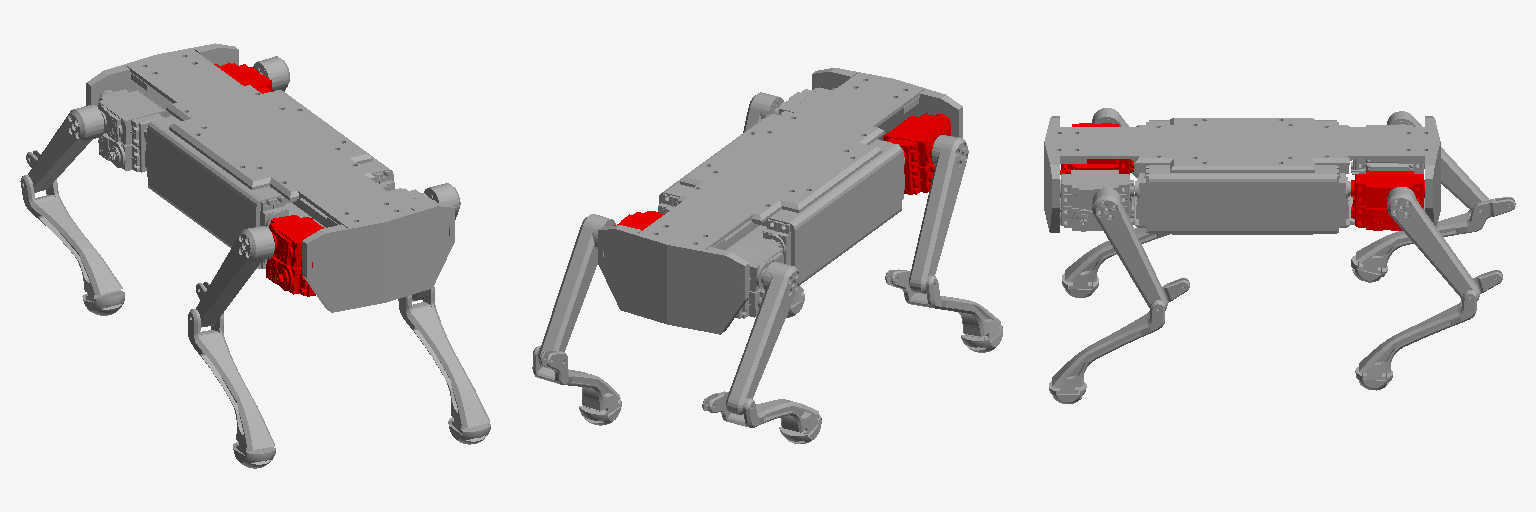
URDF robot description (URDF):
<?xml version="1.0" encoding="utf-8"?>
<!-- This URDF was automatically created by SolidWorks to URDF Exporter! Originally created by Stephen Brawner (brawner@gmail.com) 
     Commit Version: 1.6.0-4-g7f85cfe  Build Version: 1.6.7995.38578
     For more information, please see http://wiki.ros.org/sw_urdf_exporter -->
<robot
  name="URDF">
  <link
    name="base_link">
    <inertial>
      <origin
        xyz="-9.00283980698191E-09 5.37260734512213E-09 0.0004696376772092"
        rpy="0 0 0" />
      <mass
        value="0.326547449294338" />
      <inertia
        ixx="0.000391289335637491"
        ixy="2.91015127306445E-12"
        ixz="-4.83180864568021E-14"
        iyy="0.000178962951205194"
        iyz="-2.65253578582664E-11"
        izz="0.000422717056040505" />
    </inertial>
    <visual>
      <origin
        xyz="0 0 0"
        rpy="0 0 0" />
      <geometry>
        <mesh
          filename="package://URDF/meshes/base_link.STL" />
      </geometry>
      <material
        name="">
        <color
          rgba="0.698039215686274 0.698039215686274 0.698039215686274 1" />
      </material>
    </visual>
    <collision>
      <origin
        xyz="0 0 0"
        rpy="0 0 0" />
      <geometry>
        <mesh
          filename="package://URDF/meshes/base_link.STL" />
      </geometry>
    </collision>
  </link>
  <link
    name="hip_RF">
    <inertial>
      <origin
        xyz="0.01043789785135 -0.00182747499403901 0.0298079563378445"
        rpy="0 0 0" />
      <mass
        value="0.0691270911282823" />
      <inertia
        ixx="1.61354149984616E-05"
        ixy="-3.48903802767794E-07"
        ixz="4.23730756674166E-08"
        iyy="1.15235644013864E-05"
        iyz="-3.1805580390817E-09"
        izz="1.0322138370621E-05" />
    </inertial>
    <visual>
      <origin
        xyz="0 0 0"
        rpy="0 0 0" />
      <geometry>
        <mesh
          filename="package://URDF/meshes/hip_RF.STL" />
      </geometry>
      <material
        name="">
        <color
          rgba="1 0 0 1" />
      </material>
    </visual>
    <collision>
      <origin
        xyz="0 0 0"
        rpy="0 0 0" />
      <geometry>
        <mesh
          filename="package://URDF/meshes/hip_RF.STL" />
      </geometry>
    </collision>
  </link>
  <joint
    name="Joint1_RF"
    type="revolute">
    <origin
      xyz="-0.0449999975183671 -0.0954992296169629 0.00938098015422906"
      rpy="1.5707963267949 1.5707963267949 0" />
    <parent
      link="base_link" />
    <child
      link="hip_RF" />
    <axis
      xyz="0 0 -1" />
    <limit
      lower="-1.57"
      upper="1.57"
      effort="1.5"
      velocity="6" />
  </joint>
  <link
    name="Thigh_RF">
    <inertial>
      <origin
        xyz="0.032280431807894 -0.0236802430912848 0.0104420535363001"
        rpy="0 0 0" />
      <mass
        value="0.013651926085773" />
      <inertia
        ixx="5.5204154247523E-06"
        ixy="6.54647969104011E-06"
        ixz="-1.79176256301231E-07"
        iyy="9.6200206165967E-06"
        iyz="1.3165139076472E-07"
        izz="1.46391765309724E-05" />
    </inertial>
    <visual>
      <origin
        xyz="0 0 0"
        rpy="0 0 0" />
      <geometry>
        <mesh
          filename="package://URDF/meshes/Thigh_RF.STL" />
      </geometry>
      <material
        name="">
        <color
          rgba="0.698039215686274 0.698039215686274 0.698039215686274 1" />
      </material>
    </visual>
    <collision>
      <origin
        xyz="0 0 0"
        rpy="0 0 0" />
      <geometry>
        <mesh
          filename="package://URDF/meshes/Thigh_RF.STL" />
      </geometry>
    </collision>
  </link>
  <joint
    name="Joint2_RF"
    type="revolute">
    <origin
      xyz="-0.00173667361422397 -0.0254384909655809 0.0198618942938599"
      rpy="1.5707963267949 0 -0.0746977131182897" />
    <parent
      link="hip_RF" />
    <child
      link="Thigh_RF" />
    <axis
      xyz="0 0 -1" />
    <limit
      lower="-1.57"
      upper="1.57"
      effort="1.5"
      velocity="6" />
  </joint>
  <link
    name="Calf_RF">
    <inertial>
      <origin
        xyz="0.0373951602098321 0.0424247926702395 0.00939524740905079"
        rpy="0 0 0" />
      <mass
        value="0.00886601436486069" />
      <inertia
        ixx="1.05947647712127E-05"
        ixy="-7.05915122656913E-06"
        ixz="-2.68979687283937E-07"
        iyy="5.54566523908732E-06"
        iyz="-3.43790171996494E-07"
        izz="1.54522767088771E-05" />
    </inertial>
    <visual>
      <origin
        xyz="0 0 0"
        rpy="0 0 0" />
      <geometry>
        <mesh
          filename="package://URDF/meshes/Calf_RF.STL" />
      </geometry>
      <material
        name="">
        <color
          rgba="0.698039215686274 0.698039215686274 0.698039215686274 1" />
      </material>
    </visual>
    <collision>
      <origin
        xyz="0 0 0"
        rpy="0 0 0" />
      <geometry>
        <mesh
          filename="package://URDF/meshes/Calf_RF.STL" />
      </geometry>
    </collision>
  </link>
  <joint
    name="Joint3_RF"
    type="revolute">
    <origin
      xyz="0.0805856649939703 -0.0591729658721312 0.00130000000000041"
      rpy="0 0 0" />
    <parent
      link="Thigh_RF" />
    <child
      link="Calf_RF" />
    <axis
      xyz="0 0 -1" />
    <limit
      lower="-1.57"
      upper="1.57"
      effort="1.5"
      velocity="6" />
  </joint>
  <link
    name="Foot_RF">
    <inertial>
      <origin
        xyz="-0.00583271260362817 -6.02953798001238E-12 0.000153322639481396"
        rpy="0 0 0" />
      <mass
        value="0.00230350114254969" />
      <inertia
        ixx="2.28786125493708E-07"
        ixy="8.28931133524343E-17"
        ixz="3.24629206116933E-11"
        iyy="1.24696640412666E-07"
        iyz="-8.68398944225259E-15"
        izz="1.62073483970147E-07" />
    </inertial>
    <visual>
      <origin
        xyz="0 0 0"
        rpy="0 0 0" />
      <geometry>
        <mesh
          filename="package://URDF/meshes/Foot_RF.STL" />
      </geometry>
      <material
        name="">
        <color
          rgba="0.698039215686274 0.698039215686274 0.698039215686274 1" />
      </material>
    </visual>
    <collision>
      <origin
        xyz="0 0 0"
        rpy="0 0 0" />
      <geometry>
        <mesh
          filename="package://URDF/meshes/Foot_RF.STL" />
      </geometry>
    </collision>
  </link>
  <joint
    name="Joint4_RF"
    type="fixed">
    <origin
      xyz="0.0849986200651742 0.0827272177698522 0.00992243475665372"
      rpy="0 0 0.0695608286554116" />
    <parent
      link="Calf_RF" />
    <child
      link="Foot_RF" />
    <axis
      xyz="0 0 0" />
  </joint>
  <link
    name="Hip_LB">
    <inertial>
      <origin
        xyz="0.0105452258430738 -0.00104424135186948 0.0298079668931553"
        rpy="0 0 0" />
      <mass
        value="0.0691271457278031" />
      <inertia
        ixx="1.61616629119539E-05"
        ixy="-1.80295208678471E-09"
        ixz="4.24922638135225E-08"
        iyy="1.14973259921799E-05"
        iyz="-9.42833085901119E-12"
        izz="1.03221479885146E-05" />
    </inertial>
    <visual>
      <origin
        xyz="0 0 0"
        rpy="0 0 0" />
      <geometry>
        <mesh
          filename="package://URDF/meshes/Hip_LB.STL" />
      </geometry>
      <material
        name="">
        <color
          rgba="1 0 0 1" />
      </material>
    </visual>
    <collision>
      <origin
        xyz="0 0 0"
        rpy="0 0 0" />
      <geometry>
        <mesh
          filename="package://URDF/meshes/Hip_LB.STL" />
      </geometry>
    </collision>
  </link>
  <joint
    name="Joint1_LB"
    type="revolute">
    <origin
      xyz="0.0449999975183657 0.0954992296169666 0.00938098015422961"
      rpy="-1.57079632679533 1.51781885809782 0" />
    <parent
      link="base_link" />
    <child
      link="Hip_LB" />
    <axis
      xyz="0 0 -1" />
    <limit
      lower="-1.57"
      upper="1.57"
      effort="1.5"
      velocity="6" />
  </joint>
  <link
    name="Thigh_LB">
    <inertial>
      <origin
        xyz="0.0324139783823418 0.0234973998967534 0.010442053925429"
        rpy="0 0 0" />
      <mass
        value="0.0136519261569896" />
      <inertia
        ixx="5.44654101193738E-06"
        ixy="-6.52288913271812E-06"
        ixz="-1.79917384009864E-07"
        iyy="9.69389504682865E-06"
        iyz="-1.30636531831865E-07"
        izz="1.46391765806164E-05" />
    </inertial>
    <visual>
      <origin
        xyz="0 0 0"
        rpy="0 0 0" />
      <geometry>
        <mesh
          filename="package://URDF/meshes/Thigh_LB.STL" />
      </geometry>
      <material
        name="">
        <color
          rgba="0.698039215686274 0.698039215686274 0.698039215686274 1" />
      </material>
    </visual>
    <collision>
      <origin
        xyz="0 0 0"
        rpy="0 0 0" />
      <geometry>
        <mesh
          filename="package://URDF/meshes/Thigh_LB.STL" />
      </geometry>
    </collision>
  </link>
  <joint
    name="Joint2_LB"
    type="revolute">
    <origin
      xyz="0.000166657436375506 -0.0254979846657288 0.0399381057240706"
      rpy="1.57079632679489 0 0" />
    <parent
      link="Hip_LB" />
    <child
      link="Thigh_LB" />
    <axis
      xyz="0 0 -1" />
    <limit
      lower="-1.57"
      upper="1.57"
      effort="1.5"
      velocity="6" />
  </joint>
  <link
    name="Calf_LB">
    <inertial>
      <origin
        xyz="0.0373755291685387 -0.0424425417626215 0.00939531674951682"
        rpy="0 0 0" />
      <mass
        value="0.00886593782689565" />
      <inertia
        ixx="1.06012768805217E-05"
        ixy="7.0567330024193E-06"
        ixz="-2.68802188499202E-07"
        iyy="5.53902340071791E-06"
        iyz="3.43894193393527E-07"
        izz="1.54521587443384E-05" />
    </inertial>
    <visual>
      <origin
        xyz="0 0 0"
        rpy="0 0 0" />
      <geometry>
        <mesh
          filename="package://URDF/meshes/Calf_LB.STL" />
      </geometry>
      <material
        name="">
        <color
          rgba="0.698039215686274 0.698039215686274 0.698039215686274 1" />
      </material>
    </visual>
    <collision>
      <origin
        xyz="0 0 0"
        rpy="0 0 0" />
      <geometry>
        <mesh
          filename="package://URDF/meshes/Calf_LB.STL" />
      </geometry>
    </collision>
  </link>
  <joint
    name="Joint3_LB"
    type="revolute">
    <origin
      xyz="0.0809190598674842 0.0587165140777625 0.00130000001784963"
      rpy="0 0 0" />
    <parent
      link="Thigh_LB" />
    <child
      link="Calf_LB" />
    <axis
      xyz="0 0 -1" />
    <limit
      lower="-1.57"
      upper="1.57"
      effort="1.5"
      velocity="6" />
  </joint>
  <link
    name="Foot_LB">
    <inertial>
      <origin
        xyz="-0.00583271259474122 8.96259455540616E-12 -0.00015332264911988"
        rpy="0 0 0" />
      <mass
        value="0.00230350113970975" />
      <inertia
        ixx="2.28786125140657E-07"
        ixy="-1.39383496295674E-16"
        ixz="-3.24629447166463E-11"
        iyy="1.24696640031777E-07"
        iyz="-8.67863308878992E-15"
        izz="1.62073483866643E-07" />
    </inertial>
    <visual>
      <origin
        xyz="0 0 0"
        rpy="0 0 0" />
      <geometry>
        <mesh
          filename="package://URDF/meshes/Foot_LB.STL" />
      </geometry>
      <material
        name="">
        <color
          rgba="0.698039215686274 0.698039215686274 0.698039215686274 1" />
      </material>
    </visual>
    <collision>
      <origin
        xyz="0 0 0"
        rpy="0 0 0" />
      <geometry>
        <mesh
          filename="package://URDF/meshes/Foot_LB.STL" />
      </geometry>
    </collision>
  </link>
  <joint
    name="Joint4_LB"
    type="fixed">
    <origin
      xyz="0.0849599453223677 -0.0827669358122232 0.0102631627484333"
      rpy="0 0 -0.0700282136507758" />
    <parent
      link="Calf_LB" />
    <child
      link="Foot_LB" />
    <axis
      xyz="0 0 0" />
  </joint>
  <link
    name="Hip_RB">
    <inertial>
      <origin
        xyz="0.0105452718057615 0.00104790647181918 0.0298079669074503"
        rpy="0 0 0" />
      <mass
        value="0.0691271472886633" />
      <inertia
        ixx="1.61616629716149E-05"
        ixy="-1.80294882701865E-09"
        ixz="4.24935928374082E-08"
        iyy="1.14973260843965E-05"
        iyz="-9.42672034285841E-12"
        izz="1.03221481331905E-05" />
    </inertial>
    <visual>
      <origin
        xyz="0 0 0"
        rpy="0 0 0" />
      <geometry>
        <mesh
          filename="package://URDF/meshes/Hip_RB.STL" />
      </geometry>
      <material
        name="">
        <color
          rgba="0.698039215686274 0.698039215686274 0.698039215686274 1" />
      </material>
    </visual>
    <collision>
      <origin
        xyz="0 0 0"
        rpy="0 0 0" />
      <geometry>
        <mesh
          filename="package://URDF/meshes/Hip_RB.STL" />
      </geometry>
    </collision>
  </link>
  <joint
    name="Joint1_RB"
    type="revolute">
    <origin
      xyz="-0.0450000024816331 0.0954992296169642 0.00938098015422933"
      rpy="-1.57079632679485 1.55110721336966 0" />
    <parent
      link="base_link" />
    <child
      link="Hip_RB" />
    <axis
      xyz="0 0 -1" />
    <limit
      lower="-1.57"
      upper="1.57"
      effort="1.5"
      velocity="6" />
  </joint>
  <link
    name="Thigh_RB">
    <inertial>
      <origin
        xyz="0.0294507893394123 -0.0271140048307842 0.0104420443577261"
        rpy="0 0 0" />
      <mass
        value="0.0136519261014922" />
      <inertia
        ixx="7.01396490495221E-06"
        ixy="6.8372998682109E-06"
        ixz="-1.63470037376898E-07"
        iyy="8.12647114300816E-06"
        iyz="1.50710865856366E-07"
        izz="1.46391765379428E-05" />
    </inertial>
    <visual>
      <origin
        xyz="0 0 0"
        rpy="0 0 0" />
      <geometry>
        <mesh
          filename="package://URDF/meshes/Thigh_RB.STL" />
      </geometry>
      <material
        name="">
        <color
          rgba="0.698039215686274 0.698039215686274 0.698039215686274 1" />
      </material>
    </visual>
    <collision>
      <origin
        xyz="0 0 0"
        rpy="0 0 0" />
      <geometry>
        <mesh
          filename="package://URDF/meshes/Thigh_RB.STL" />
      </geometry>
    </collision>
  </link>
  <joint
    name="Joint2_RB"
    type="revolute">
    <origin
      xyz="0.000166704579416199 0.0255007569262712 0.0399381047387575"
      rpy="-1.5707963267949 0 0" />
    <parent
      link="Hip_RB" />
    <child
      link="Thigh_RB" />
    <axis
      xyz="0 0 -1" />
    <limit
      lower="-1.57"
      upper="1.57"
      effort="1.5"
      velocity="6" />
  </joint>
  <link
    name="Calf_RB">
    <inertial>
      <origin
        xyz="0.0280177133289313 0.0491250617205707 0.00939525233233363"
        rpy="0 0 0" />
      <mass
        value="0.00886600305804803" />
      <inertia
        ixx="1.3190036197293E-05"
        ixy="-5.47651283877583E-06"
        ixz="-1.9369614119875E-07"
        iyy="2.95037700700145E-06"
        iyz="-3.91179550008804E-07"
        izz="1.54522614077137E-05" />
    </inertial>
    <visual>
      <origin
        xyz="0 0 0"
        rpy="0 0 0" />
      <geometry>
        <mesh
          filename="package://URDF/meshes/Calf_RB.STL" />
      </geometry>
      <material
        name="">
        <color
          rgba="0.698039215686274 0.698039215686274 0.698039215686274 1" />
      </material>
    </visual>
    <collision>
      <origin
        xyz="0 0 0"
        rpy="0 0 0" />
      <geometry>
        <mesh
          filename="package://URDF/meshes/Calf_RB.STL" />
      </geometry>
    </collision>
  </link>
  <joint
    name="Joint3_RB"
    type="revolute">
    <origin
      xyz="0.073521684021235 -0.0677450896688274 0.00129999081166665"
      rpy="0 0 0" />
    <parent
      link="Thigh_RB" />
    <child
      link="Calf_RB" />
    <axis
      xyz="0 0 -1" />
    <limit
      lower="-1.57"
      upper="1.57"
      effort="1.5"
      velocity="6" />
  </joint>
  <link
    name="Foot_RB">
    <inertial>
      <origin
        xyz="-0.0058327126082301 -1.43364418947467E-09 0.000153322628925534"
        rpy="0 0 0" />
      <mass
        value="0.00230350114517015" />
      <inertia
        ixx="2.28786125807996E-07"
        ixy="5.57737663105695E-16"
        ixz="3.24627559365968E-11"
        iyy="1.24696640765498E-07"
        iyz="-8.69112637643003E-15"
        izz="1.62073484065313E-07" />
    </inertial>
    <visual>
      <origin
        xyz="0 0 0"
        rpy="0 0 0" />
      <geometry>
        <mesh
          filename="package://URDF/meshes/Foot_RB.STL" />
      </geometry>
      <material
        name="">
        <color
          rgba="0.698039215686274 0.698039215686274 0.698039215686274 1" />
      </material>
    </visual>
    <collision>
      <origin
        xyz="0 0 0"
        rpy="0 0 0" />
      <geometry>
        <mesh
          filename="package://URDF/meshes/Foot_RB.STL" />
      </geometry>
    </collision>
  </link>
  <joint
    name="Joint4_RB"
    type="fixed">
    <origin
      xyz="0.0664620022781575 0.0982413366463415 0.00992243475666016"
      rpy="0 0 0.273708943903006" />
    <parent
      link="Calf_RB" />
    <child
      link="Foot_RB" />
    <axis
      xyz="0 0 0" />
  </joint>
  <link
    name="Hip_LF">
    <inertial>
      <origin
        xyz="0.010545 0.0010468 0.029808"
        rpy="0 0 0" />
      <mass
        value="0.069127" />
      <inertia
        ixx="1.6162E-05"
        ixy="-1.8027E-09"
        ixz="4.2494E-08"
        iyy="1.1497E-05"
        iyz="-9.4597E-12"
        izz="1.0322E-05" />
    </inertial>
    <visual>
      <origin
        xyz="0 0 0"
        rpy="0 0 0" />
      <geometry>
        <mesh
          filename="package://URDF/meshes/Hip_LF.STL" />
      </geometry>
      <material
        name="">
        <color
          rgba="0.69804 0.69804 0.69804 1" />
      </material>
    </visual>
    <collision>
      <origin
        xyz="0 0 0"
        rpy="0 0 0" />
      <geometry>
        <mesh
          filename="package://URDF/meshes/Hip_LF.STL" />
      </geometry>
    </collision>
  </link>
  <joint
    name="Joint1_LF"
    type="revolute">
    <origin
      xyz="0.045 -0.095499 0.009381"
      rpy="1.5708 1.5617 0" />
    <parent
      link="base_link" />
    <child
      link="Hip_LF" />
    <axis
      xyz="0 0 -1" />
    <limit
      lower="-1.57"
      upper="1.57"
      effort="1.5"
      velocity="6" />
  </joint>
  <link
    name="Thigh_LF">
    <inertial>
      <origin
        xyz="0.036049 0.017427 0.010442"
        rpy="0 0 0" />
      <mass
        value="0.013652" />
      <inertia
        ixx="3.3185E-06"
        ixy="-5.3834E-06"
        ixz="-2.001E-07"
        iyy="1.1822E-05"
        iyz="-9.6944E-08"
        izz="1.4639E-05" />
    </inertial>
    <visual>
      <origin
        xyz="0 0 0"
        rpy="0 0 0" />
      <geometry>
        <mesh
          filename="package://URDF/meshes/Thigh_LF.STL" />
      </geometry>
      <material
        name="">
        <color
          rgba="0.69804 0.69804 0.69804 1" />
      </material>
    </visual>
    <collision>
      <origin
        xyz="0 0 0"
        rpy="0 0 0" />
      <geometry>
        <mesh
          filename="package://URDF/meshes/Thigh_LF.STL" />
      </geometry>
    </collision>
  </link>
  <joint
    name="Joint2_LF"
    type="revolute">
    <origin
      xyz="0.00016671 0.0255 0.019862"
      rpy="-1.5708 0 0" />
    <parent
      link="Hip_LF" />
    <child
      link="Thigh_LF" />
    <axis
      xyz="0 0 -1" />
    <limit
      lower="-1.57"
      upper="1.57"
      effort="1.5"
      velocity="6" />
  </joint>
  <link
    name="Calf_LF">
    <inertial>
      <origin
        xyz="0.0400074091928247 -0.0399710015975013 0.00939526551731823"
        rpy="0 0 0" />
      <mass
        value="0.00886599216069837" />
      <inertia
        ixx="9.68199146472528E-06"
        ixy="7.32166441792946E-06"
        ixz="-2.90209278325821E-07"
        iyy="6.45839516851461E-06"
        iyz="3.26054960970975E-07"
        izz="1.5452236619894E-05" />
    </inertial>
    <visual>
      <origin
        xyz="0 0 0"
        rpy="0 0 0" />
      <geometry>
        <mesh
          filename="package://URDF/meshes/Calf_LF.STL" />
      </geometry>
      <material
        name="">
        <color
          rgba="0.698039215686274 0.698039215686274 0.698039215686274 1" />
      </material>
    </visual>
    <collision>
      <origin
        xyz="0 0 0"
        rpy="0 0 0" />
      <geometry>
        <mesh
          filename="package://URDF/meshes/Calf_LF.STL" />
      </geometry>
    </collision>
  </link>
  <joint
    name="Joint3_LF"
    type="revolute">
    <origin
      xyz="0.089994 0.043563 0.0013"
      rpy="0 0 0" />
    <parent
      link="Thigh_LF" />
    <child
      link="Calf_LF" />
    <axis
      xyz="0 0 -1" />
    <limit
      lower="-1.57"
      upper="1.57"
      effort="1.5"
      velocity="6" />
  </joint>
  <link
    name="Foot_LF">
    <inertial>
      <origin
        xyz="-0.00583271258837526 7.68030083975191E-12 0.000153322580269066"
        rpy="0 0 0" />
      <mass
        value="0.00230350113811287" />
      <inertia
        ixx="2.28786124942133E-07"
        ixy="-1.3859269384569E-16"
        ixz="3.24624743400965E-11"
        iyy="1.24696639819762E-07"
        iyz="-8.67860558172583E-15"
        izz="1.62073483812351E-07" />
    </inertial>
    <visual>
      <origin
        xyz="0 0 0"
        rpy="0 0 0" />
      <geometry>
        <mesh
          filename="package://URDF/meshes/Foot_LF.STL" />
      </geometry>
      <material
        name="">
        <color
          rgba="0.698039215686274 0.698039215686274 0.698039215686274 1" />
      </material>
    </visual>
    <collision>
      <origin
        xyz="0 0 0"
        rpy="0 0 0" />
      <geometry>
        <mesh
          filename="package://URDF/meshes/Foot_LF.STL" />
      </geometry>
    </collision>
  </link>
  <joint
    name="Joint4_LF"
    type="fixed">
    <origin
      xyz="0.090068 -0.077177 0.0099224"
      rpy="0 0 -0.0061764" />
    <parent
      link="Calf_LF" />
    <child
      link="Foot_LF" />
    <axis
      xyz="0 0 0" />
  </joint>
</robot>

--- What the picture shows (computed from the rendered views, not written in the file) ---
The picture shows the robot from 3 angles, left to right: view 1: azimuth 30°, elevation 25°; view 2: azimuth 150°, elevation 25°; view 3: azimuth 270°, elevation 25°; orthographic projection.
Model URDF with 17 links and 16 joints (12 revolute, 4 fixed), rooted at base_link, posed all joints at 0.
Visible links, largest first — view 1: base_link, Calf_RF, Calf_LF, Calf_RB, Hip_RB, Thigh_RF, Thigh_RB, hip_RF, Hip_LB, Thigh_LB, Thigh_LF, Foot_RB (+2 smaller); view 2: base_link, Thigh_RF, Thigh_RB, Thigh_LB, hip_RF, Calf_RF, Calf_RB, Calf_LB, Hip_RB, Thigh_LF, Hip_LF; view 3: base_link, Thigh_LB, Thigh_LF, Calf_LB, Calf_LF, Hip_LF, Hip_LB, Calf_RB, Thigh_RB, Calf_RF, hip_RF, Hip_RB.
Boxes of the visible links, x1=… form: base_link: x1=86, y1=43, x2=454, y2=312; Calf_RF: x1=188, y1=282, x2=275, y2=456; Calf_LF: x1=398, y1=287, x2=489, y2=434; Calf_RB: x1=20, y1=150, x2=122, y2=302; Hip_RB: x1=98, y1=89, x2=166, y2=172; Thigh_RF: x1=196, y1=226, x2=274, y2=327; Thigh_RB: x1=28, y1=105, x2=103, y2=192; hip_RF: x1=266, y1=215, x2=323, y2=296; Hip_LB: x1=214, y1=63, x2=272, y2=93; Thigh_LB: x1=253, y1=56, x2=289, y2=91; Thigh_LF: x1=412, y1=183, x2=460, y2=301; Foot_RB: x1=82, y1=292, x2=124, y2=315; base_link: x1=598, y1=68, x2=962, y2=334; Thigh_RF: x1=909, y1=135, x2=968, y2=293; Thigh_RB: x1=726, y1=261, x2=799, y2=414; Thigh_LB: x1=538, y1=214, x2=615, y2=369; hip_RF: x1=883, y1=114, x2=950, y2=194; Calf_RF: x1=885, y1=269, x2=1002, y2=339; Calf_RB: x1=702, y1=391, x2=821, y2=434; Calf_LB: x1=532, y1=346, x2=621, y2=413; Hip_RB: x1=726, y1=236, x2=782, y2=318; Thigh_LF: x1=743, y1=92, x2=783, y2=132; Hip_LF: x1=777, y1=87, x2=836, y2=117; base_link: x1=1044, y1=116, x2=1440, y2=234; Thigh_LB: x1=1387, y1=187, x2=1479, y2=300; Thigh_LF: x1=1092, y1=188, x2=1167, y2=310; Calf_LB: x1=1359, y1=270, x2=1502, y2=379; Calf_LF: x1=1052, y1=278, x2=1189, y2=394; Hip_LF: x1=1060, y1=170, x2=1133, y2=231; Hip_LB: x1=1351, y1=170, x2=1424, y2=230; Calf_RB: x1=1356, y1=197, x2=1515, y2=273; Thigh_RB: x1=1387, y1=111, x2=1488, y2=211; Calf_RF: x1=1065, y1=227, x2=1169, y2=288; hip_RF: x1=1060, y1=123, x2=1133, y2=174; Hip_RB: x1=1351, y1=124, x2=1423, y2=174.
Size in the robot's own frame: 0.2094 by 0.4012 by 0.2063 metres.
17 mesh visuals loaded from 17 distinct referenced files (17 binary STL).
